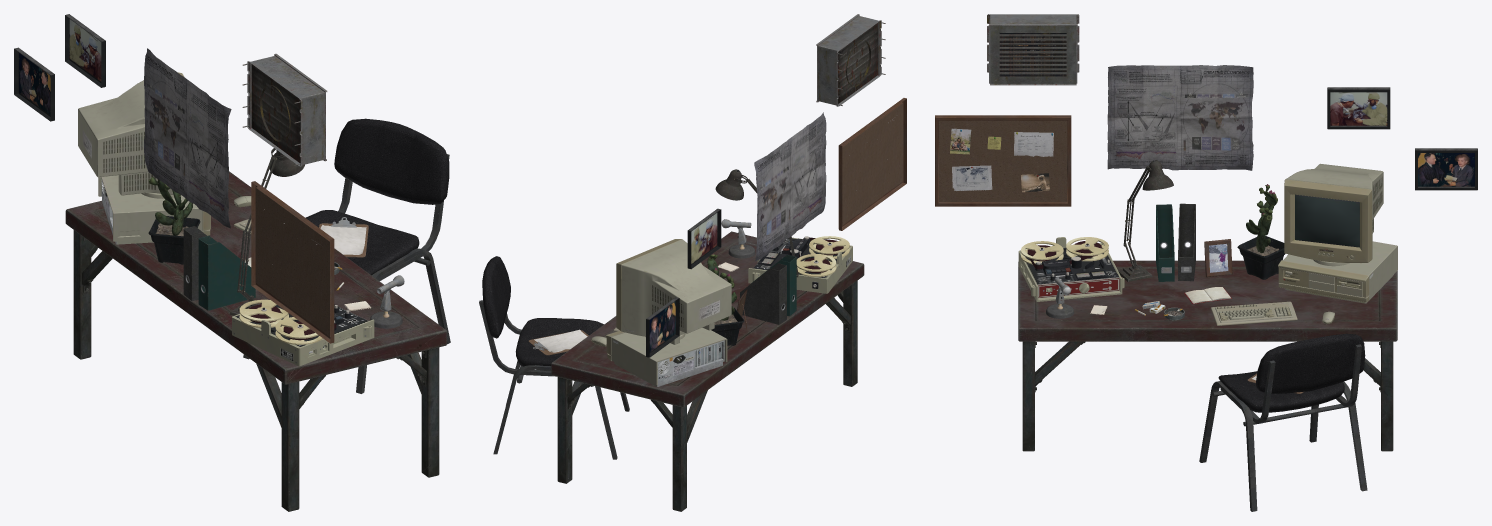
Rendered from office-desk.v1.glb.
3 views of the same model, side by side, from view 1: azimuth 30°, elevation 25°; view 2: azimuth 150°, elevation 25°; view 3: azimuth 270°, elevation 25° (orthographic). The views are drawn at different scales.
Visible parts, largest first — view 1: Object_68, Object_107, Object_95, Object_10, Object_26, Object_75, Object_97, Object_18, Object_70, Object_71, Object_4, Object_109 (+1 smaller); view 2: Object_68, Object_10, Object_95, Object_26, Object_107, Object_75, Object_97, Object_18, Object_71, Object_70, Object_4, Object_101 (+1 smaller); view 3: Object_68, Object_95, Object_10, Object_26, Object_107, Object_75, Object_97, Object_70, Object_18, Object_71, Object_4, Object_109 (+1 smaller).
Boxes of the visible parts, x1,y1,x2,y2 form: Object_68: (65,171,447,511); Object_107: (243,118,450,393); Object_95: (144,48,231,228); Object_10: (78,72,251,244); Object_26: (251,181,371,343); Object_75: (242,53,327,166); Object_97: (14,14,105,121); Object_18: (183,226,255,310); Object_70: (232,304,374,366); Object_71: (239,275,404,344); Object_4: (148,177,200,264); Object_109: (230,148,304,315); Object_68: (551,231,864,511); Object_10: (591,239,731,386); Object_95: (754,112,826,260); Object_26: (718,98,906,329); Object_107: (479,256,629,459); Object_75: (816,14,885,106); Object_97: (646,208,721,357); Object_18: (740,254,796,324); Object_71: (721,219,849,276); Object_70: (748,236,852,293); Object_4: (707,254,744,345); Object_101: (528,329,588,355); Object_68: (1018,260,1397,451); Object_95: (1107,65,1253,170); Object_10: (1210,163,1397,325); Object_26: (935,115,1232,314); Object_107: (1199,333,1367,511); Object_75: (987,14,1079,85); Object_97: (1327,87,1477,190); Object_70: (1018,237,1124,301); Object_18: (1156,203,1195,281); Object_71: (1021,237,1108,318); Object_4: (1237,184,1285,279); Object_109: (1117,160,1173,281).
Size of the model in its own units: 1.72 by 2.18 by 2.89.
Materials: 14 (14 with a texture image).
